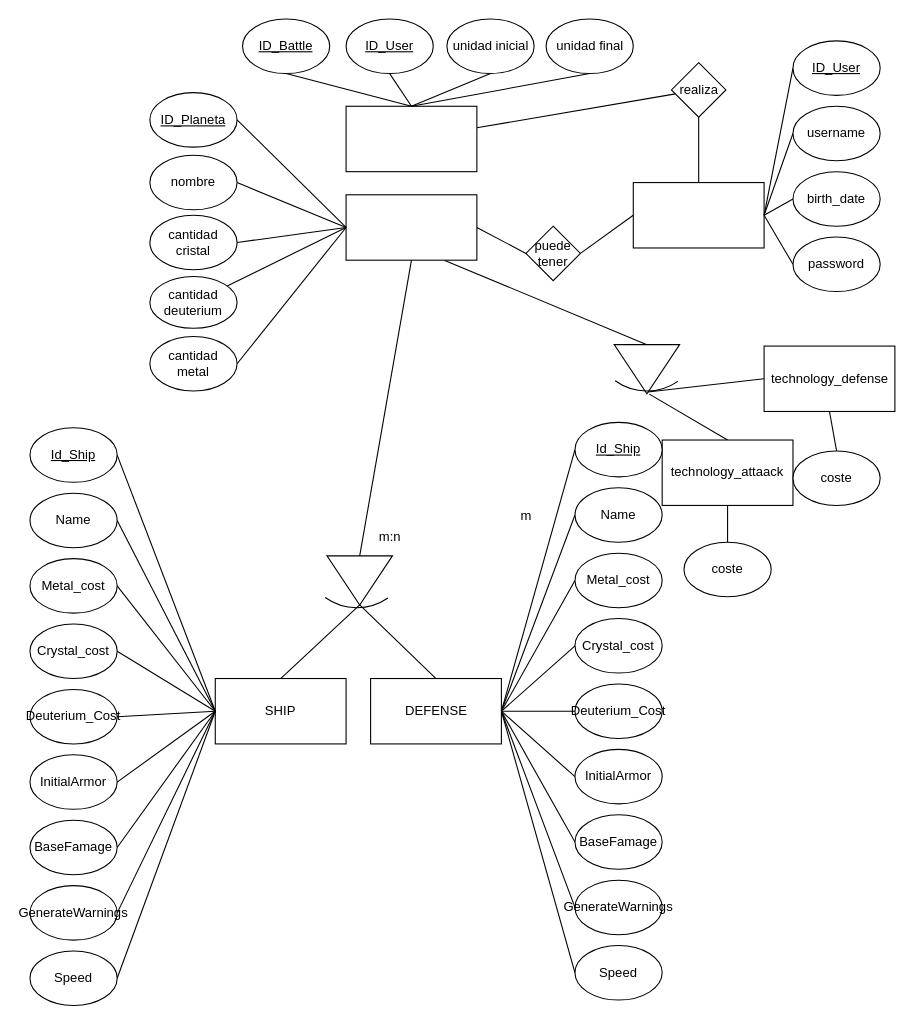
Image size: 913x1025. Some labels were removed from this diagram. The centre of each missing label's shape, as x and y in pixels:
1:n: (356,553)
BATALLA: (411,138)
PLANETAS: (411,227)
USER: (698,214)
